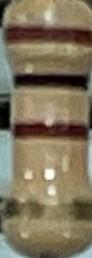Black: (12, 73, 89, 89)
Brown: (5, 28, 91, 46), (14, 122, 88, 142)
Side-Gold: (2, 198, 91, 223)
